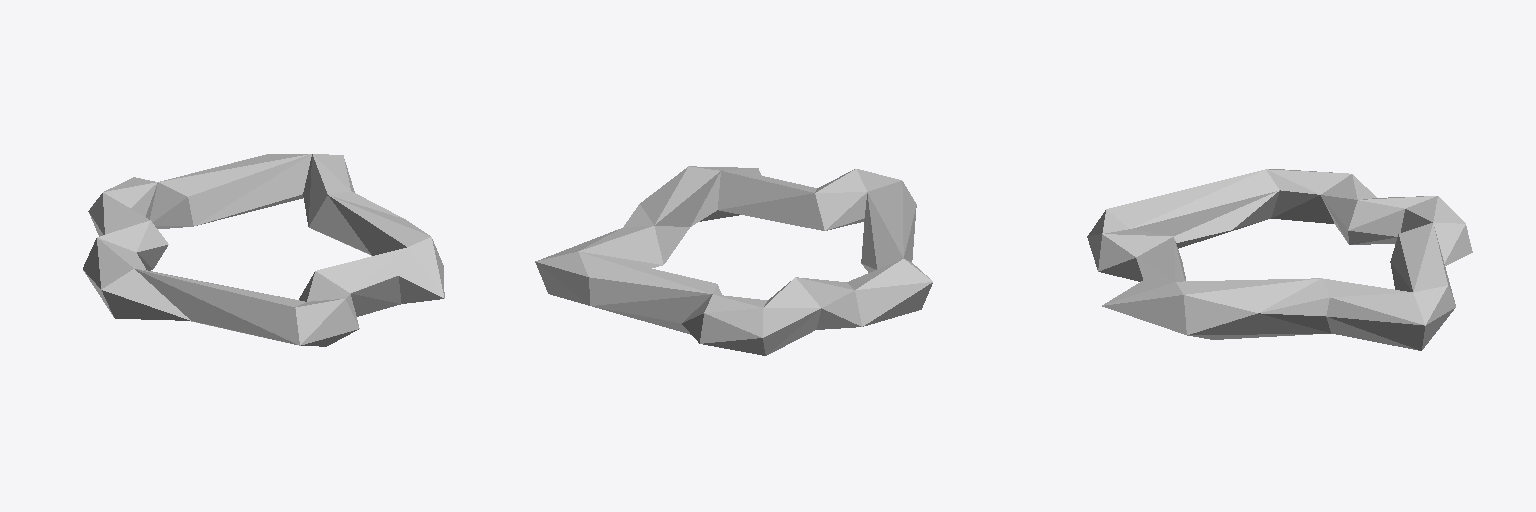
Rendered from SR_outline.obj.
3 renders of one model, left to right at view 1: azimuth 30°, elevation 25°; view 2: azimuth 150°, elevation 25°; view 3: azimuth 270°, elevation 25°, orthographic.
Visible parts, largest first — view 1: SR.001_CUCurve.059; view 2: SR.001_CUCurve.059; view 3: SR.001_CUCurve.059.
Part boxes in pixels (x1,y1,x2,y2): SR.001_CUCurve.059: (83,154,444,346); SR.001_CUCurve.059: (535,166,932,355); SR.001_CUCurve.059: (1087,169,1472,350).
Bounding box in the file's own units: 0.0279 × 0.004 × 0.0291.